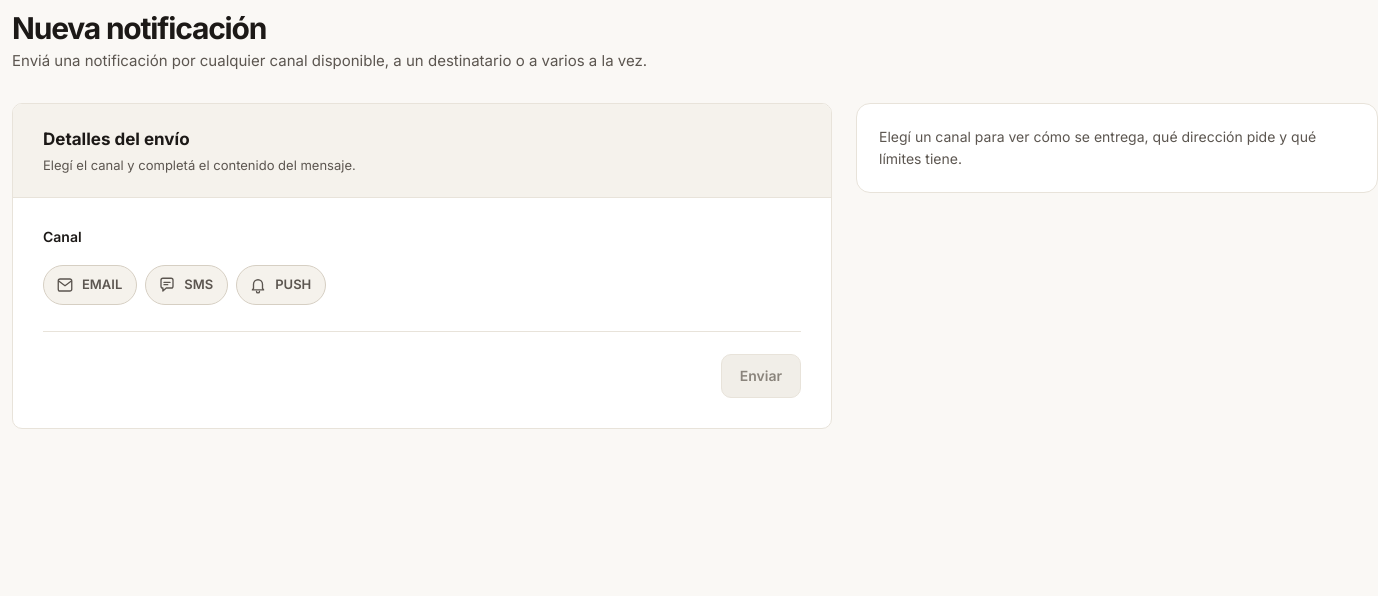
Test: NuevaNotificacion (validaciones) › muestra el motivo exacto del correo inválido al salir del campo y lo quita al corregirlo
This screenshot has width=1378, height=596.
Click the radio button labelled "EMAIL".
click(90, 285)  # box [43,265,137,305]
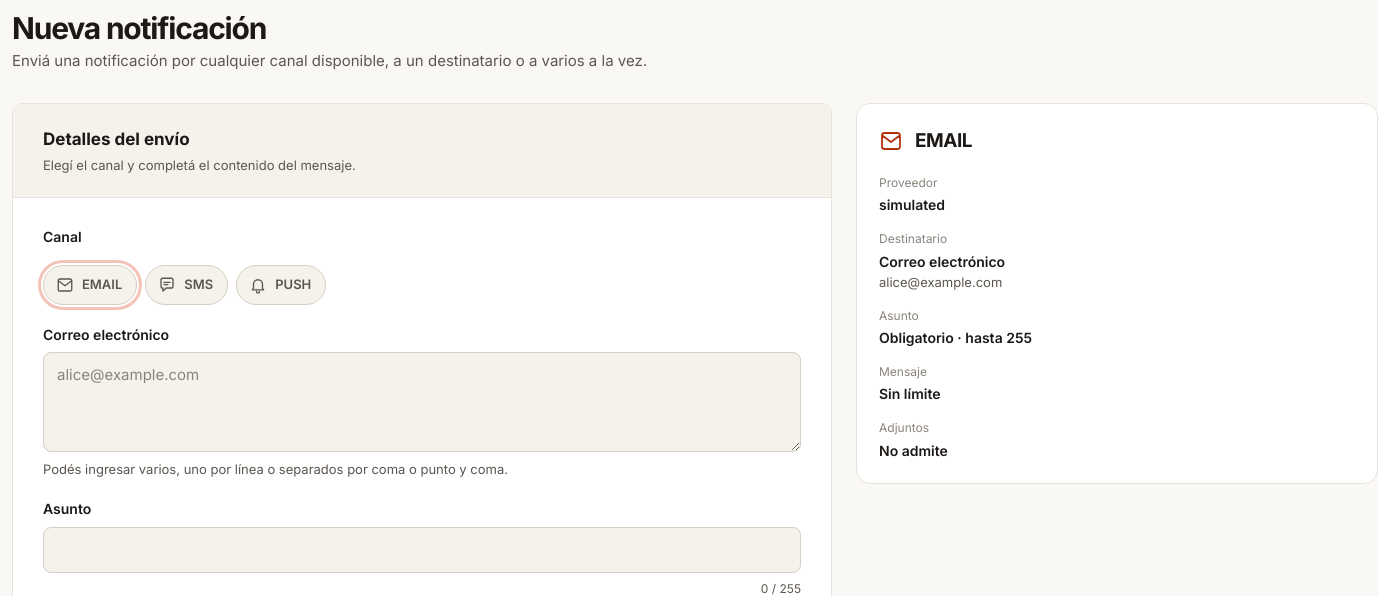
Type "alice" into the text box labelled "Correo electrónico".
click(422, 402); type("alice")  # box [43,352,801,452]
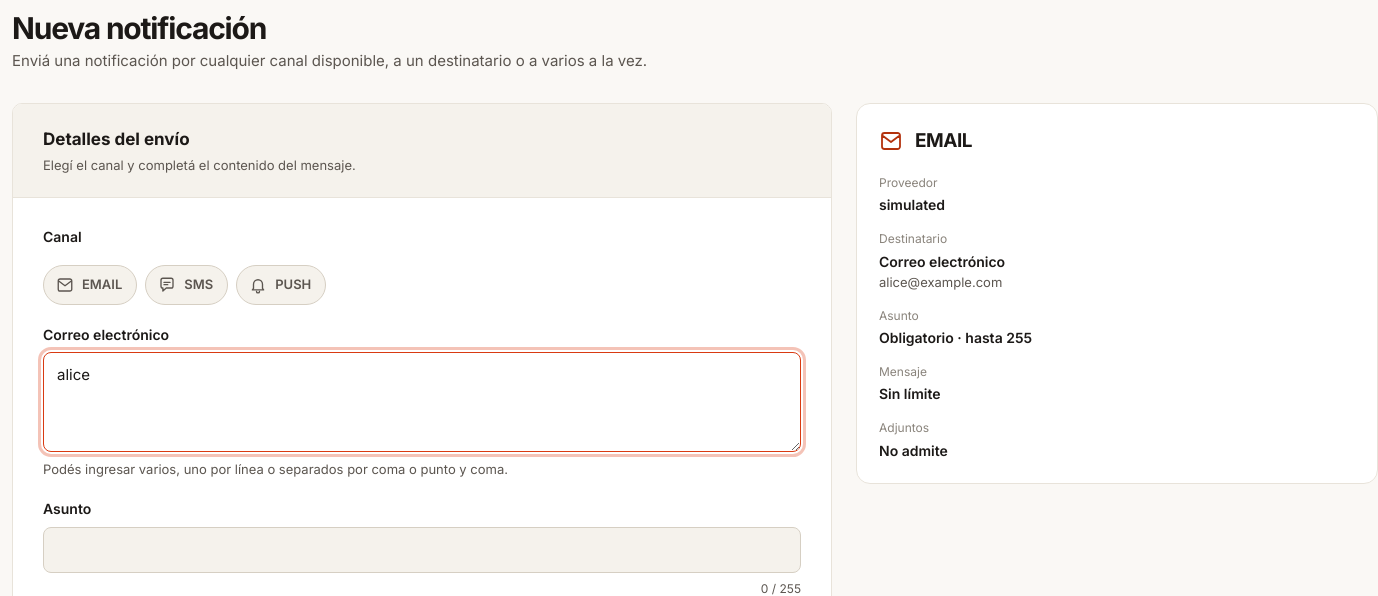
Press Tab
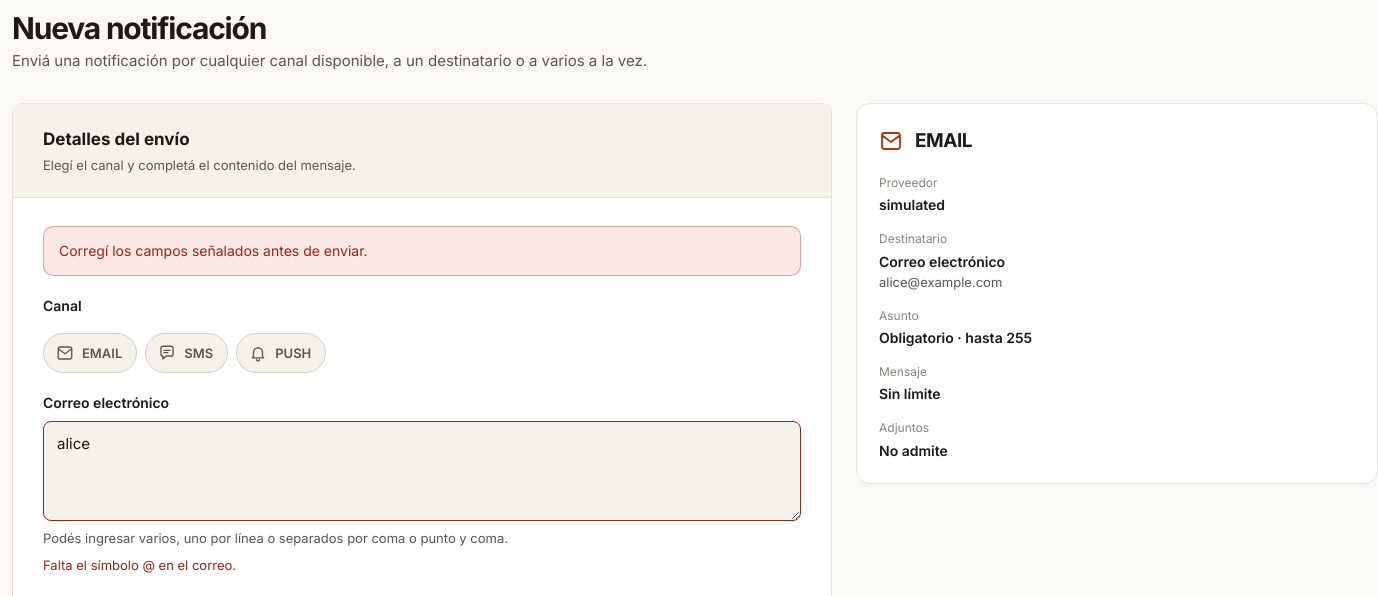
Now the text "Falta el símbolo @ en el correo." is shown, box [43,557,236,573]
Type "@example" into the text box labelled "Correo electrónico".
click(422, 471); type("@example")  # box [43,421,801,521]
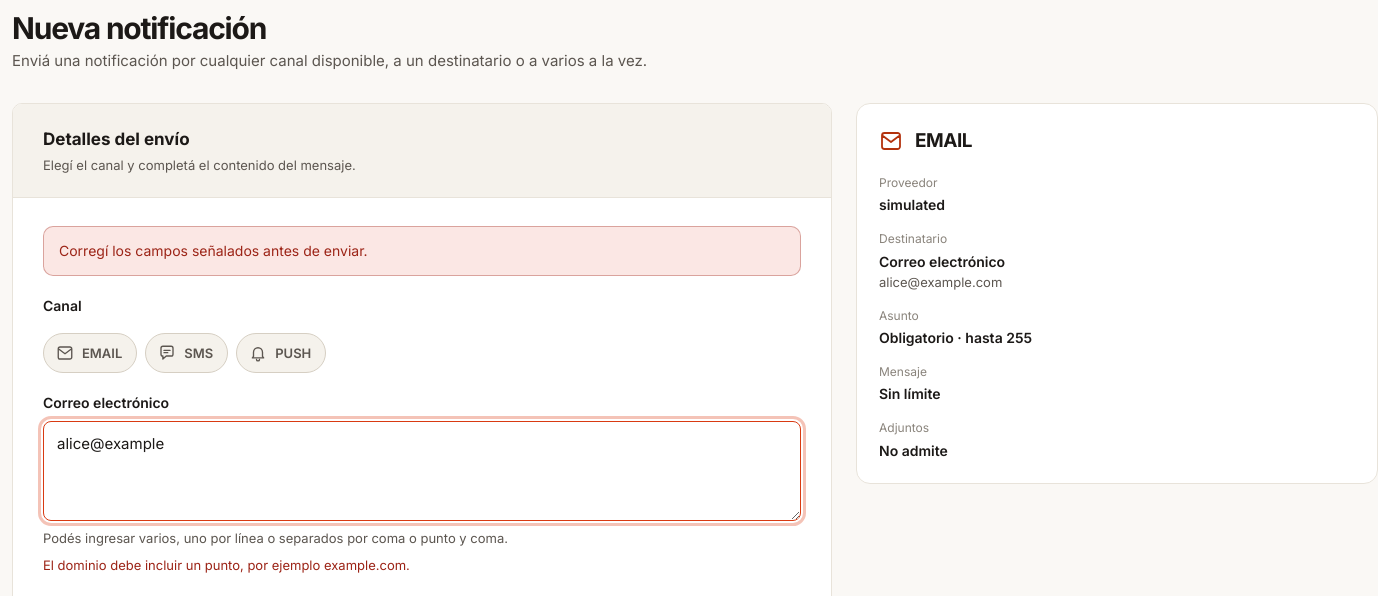
Now the text "El dominio debe incluir un punto, por ejemplo example.com." is shown, box [43,557,410,573]
Type ".com" into the text box labelled "Correo electrónico".
click(422, 471); type(".com")  # box [43,421,801,521]
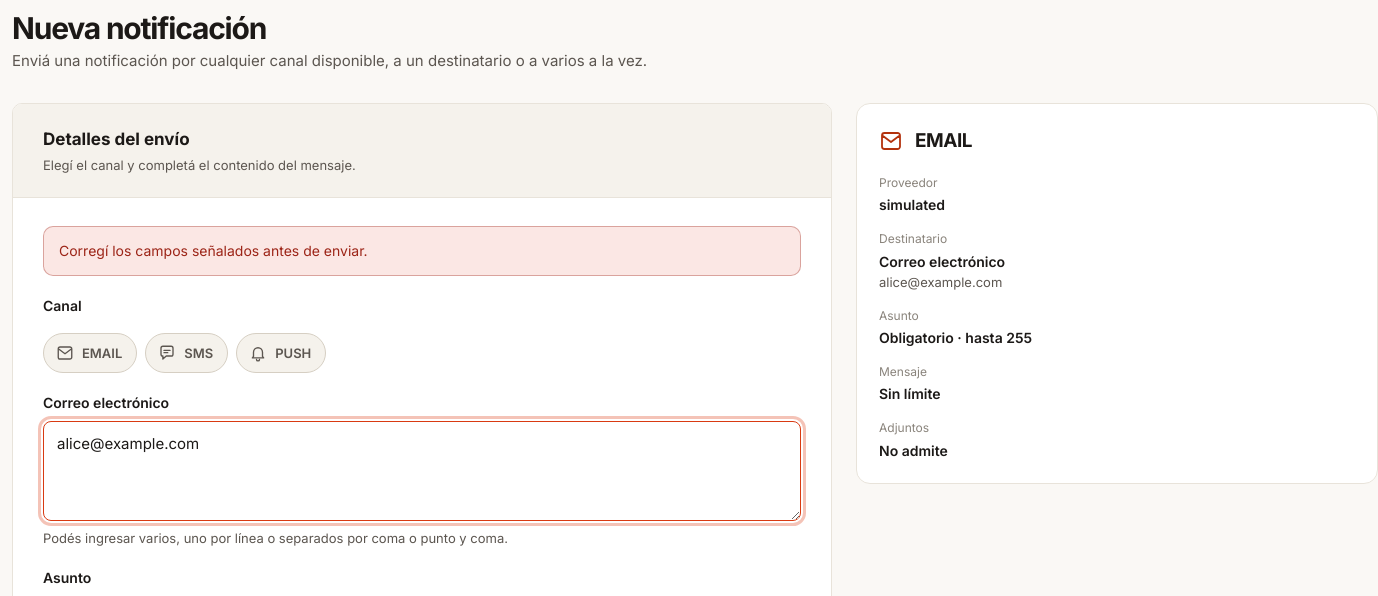
Now the text "debe incluir un punto" is gone
